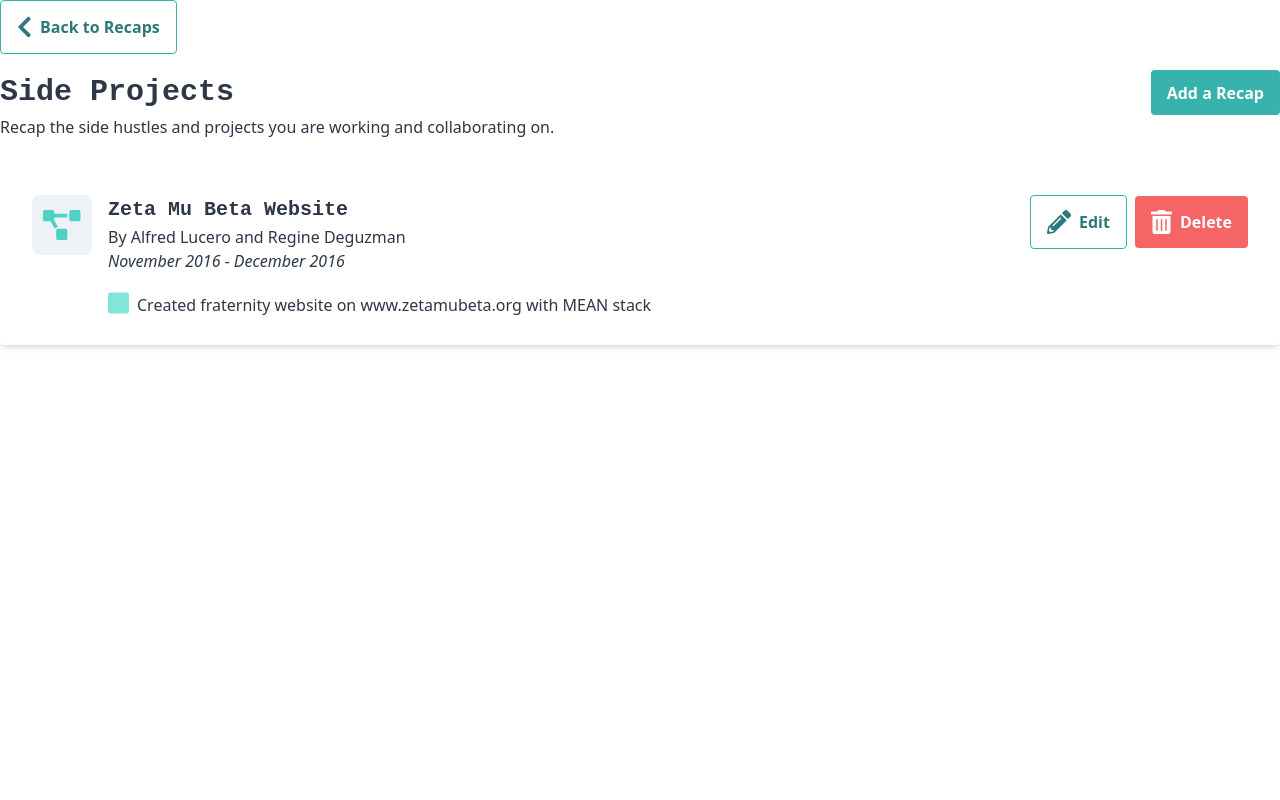
Test: <SideProjectsLayout /> › should show the error alert after failing to delete a recap
Step 1. Click the button "Delete" → (1192, 222), box [1135,196,1248,248]
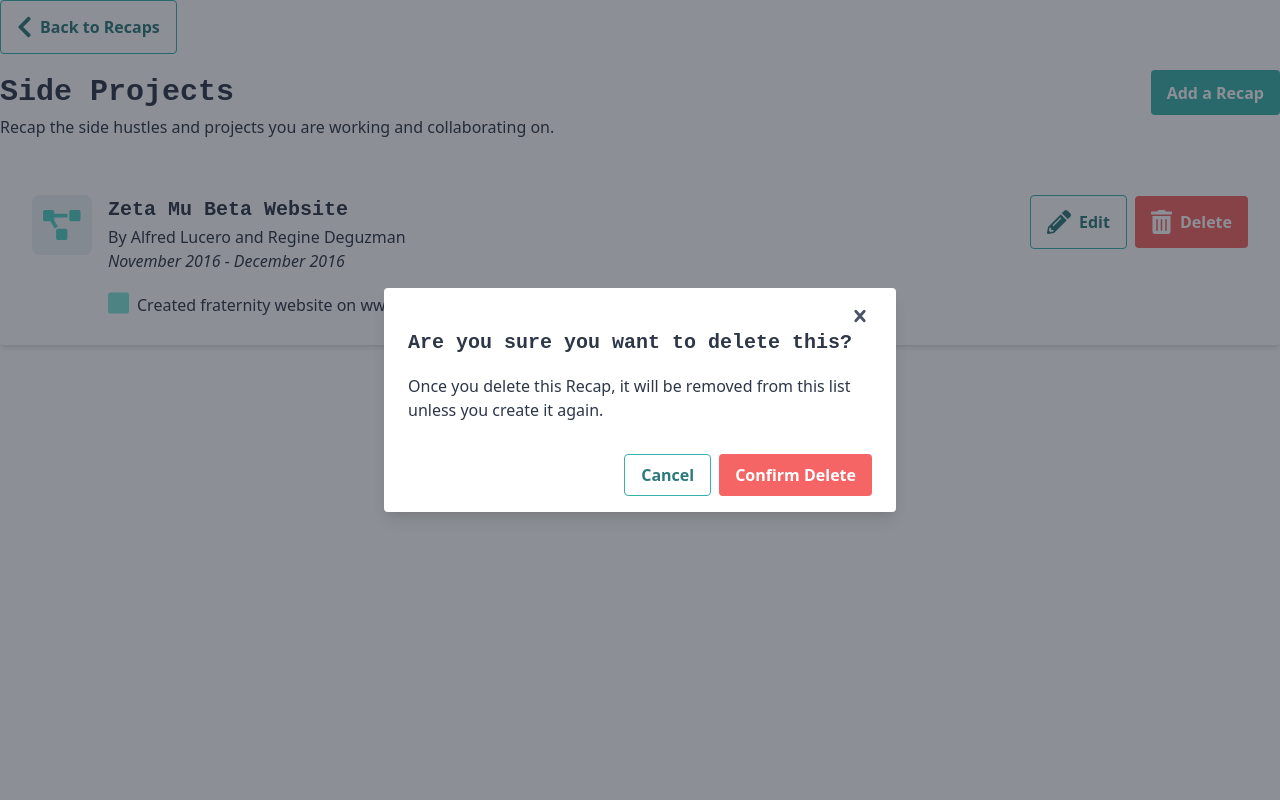
Expected: the heading "Are you sure you want to delete this?" is shown, [408,328,872,358]
Step 2. Click the button "Confirm Delete" → (796, 475), box [719,454,872,496]
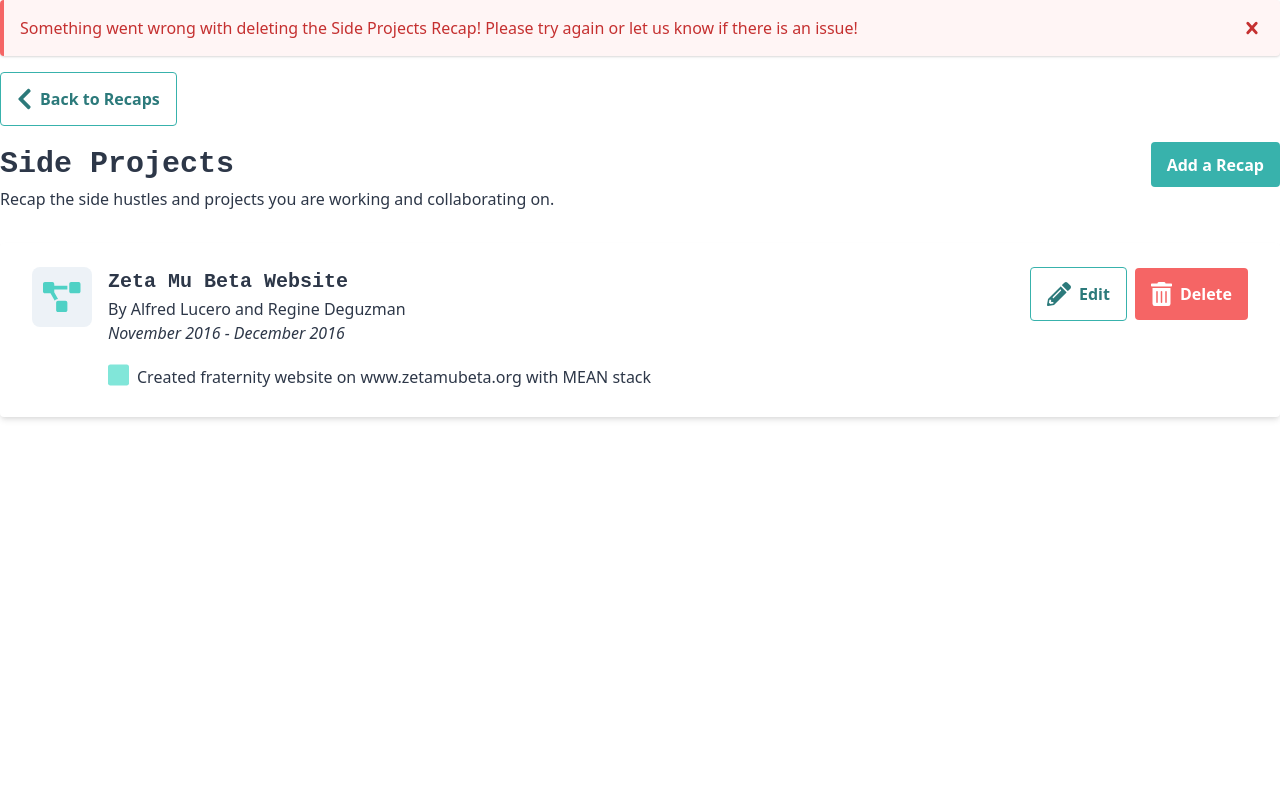
Expected: the heading "Are you sure you want to delete this?" is gone
Expected: the text "Something went wrong with deleting the Side Projects Recap!" is shown, [20,17,858,39]
